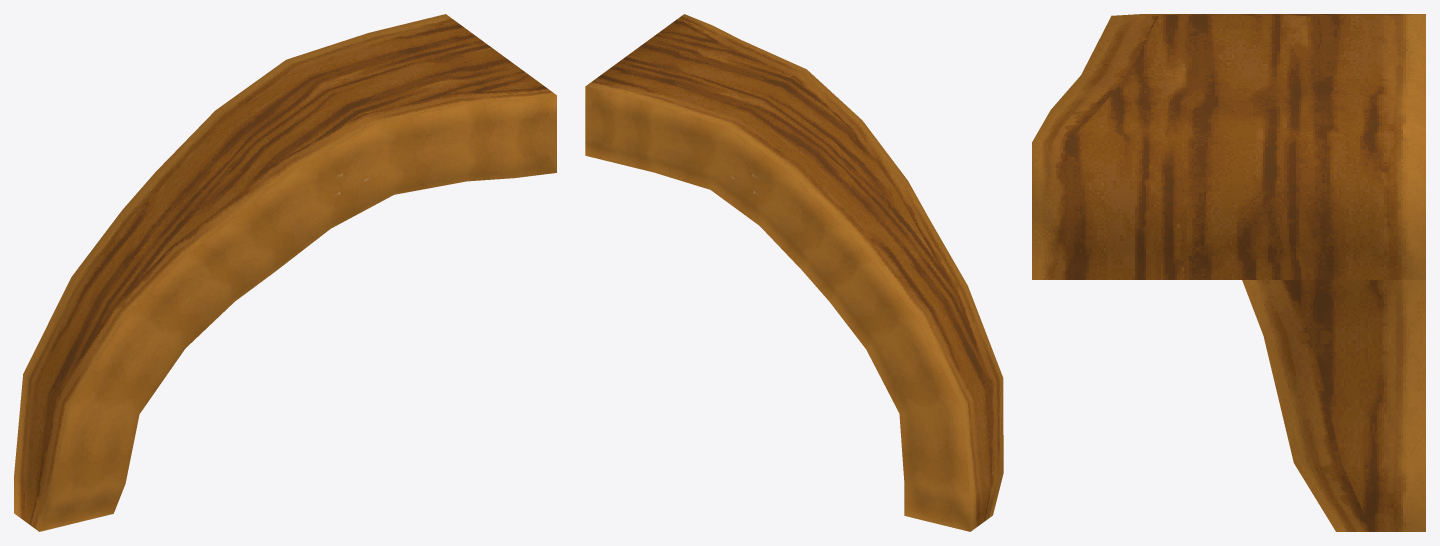
Rendered from SM_AP_CanyonWall_Bend_Ramp_1.glb.
The picture shows the model from 3 angles, left to right: view 1: azimuth 30°, elevation 25°; view 2: azimuth 150°, elevation 25°; view 3: azimuth 270°, elevation 25°; orthographic projection. The views are drawn at different scales.
Visible parts, largest first — view 1: SM_AP_CanyonWall_Bend_Ramp_1; view 2: SM_AP_CanyonWall_Bend_Ramp_1; view 3: SM_AP_CanyonWall_Bend_Ramp_1.
Part boxes in pixels (x1,y1,x2,y2): SM_AP_CanyonWall_Bend_Ramp_1: [14, 14, 556, 531]; SM_AP_CanyonWall_Bend_Ramp_1: [585, 14, 1003, 531]; SM_AP_CanyonWall_Bend_Ramp_1: [1032, 14, 1425, 531].
Size of the model in its own units: 46.51 by 40.57 by 20.7.
Materials: 1 (1 with a texture image).
